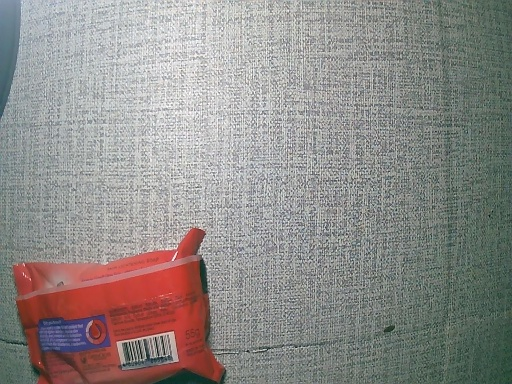plastic: (14, 232, 222, 384)
